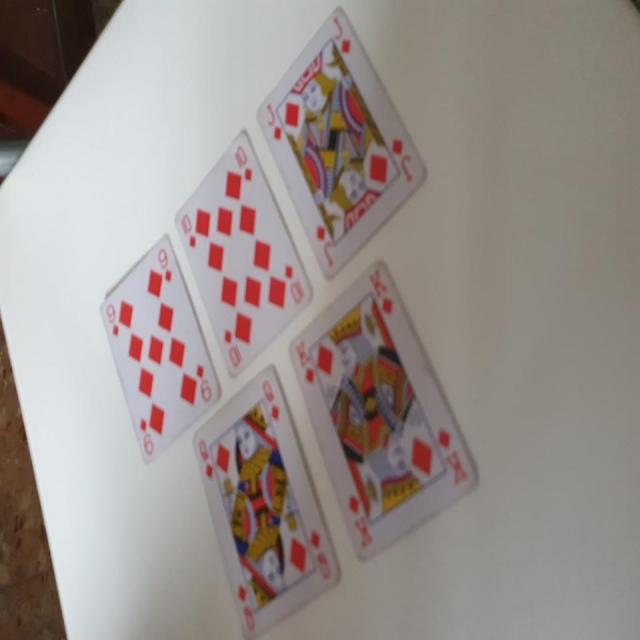10 Diamonds: (174, 129, 311, 380)
9 Diamonds: (98, 236, 222, 466)
J Diamonds: (255, 4, 430, 281)
K Diamonds: (289, 258, 482, 564)
Q Diamonds: (191, 362, 340, 639)
